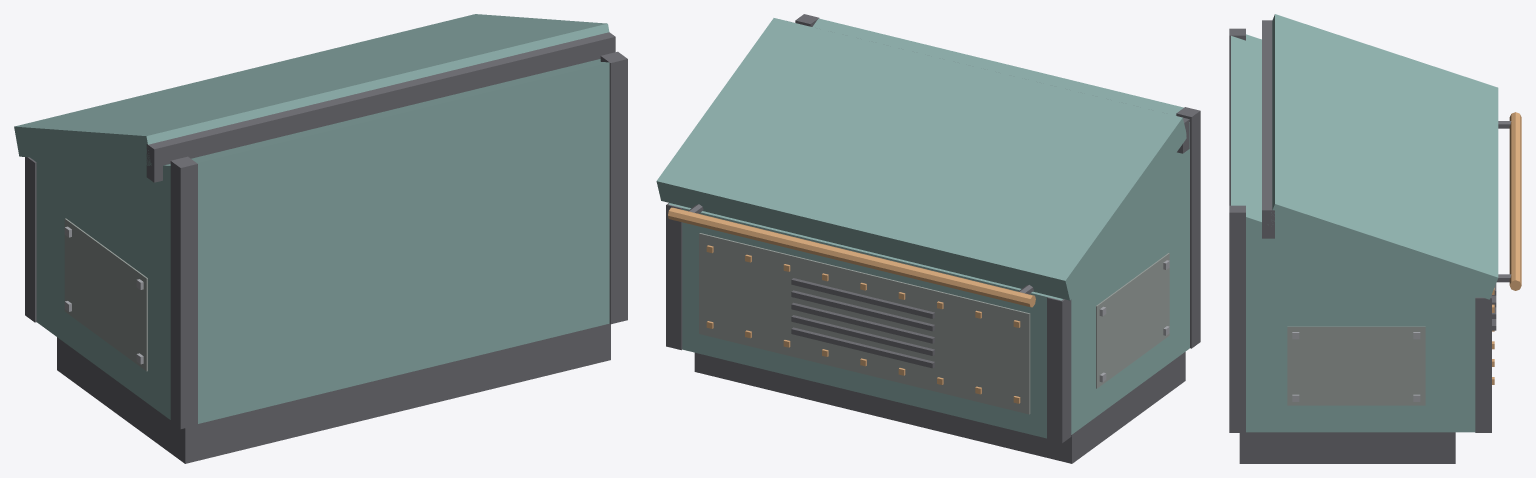
File: console_leg.glb
The picture shows the model from 3 angles, left to right: view 1: azimuth 30°, elevation 25°; view 2: azimuth 150°, elevation 25°; view 3: azimuth 270°, elevation 25°; orthographic projection. The views are drawn at different scales.
Parts seen in each view (by area): view 1: console_leg; view 2: console_leg; view 3: console_leg.
Part boxes in pixels (x1,y1,x2,y2): console_leg: (14, 14, 627, 463); console_leg: (656, 14, 1200, 463); console_leg: (1229, 14, 1521, 463).
Size of the model in its own units: 1.04 by 0.6823 by 0.6765.
